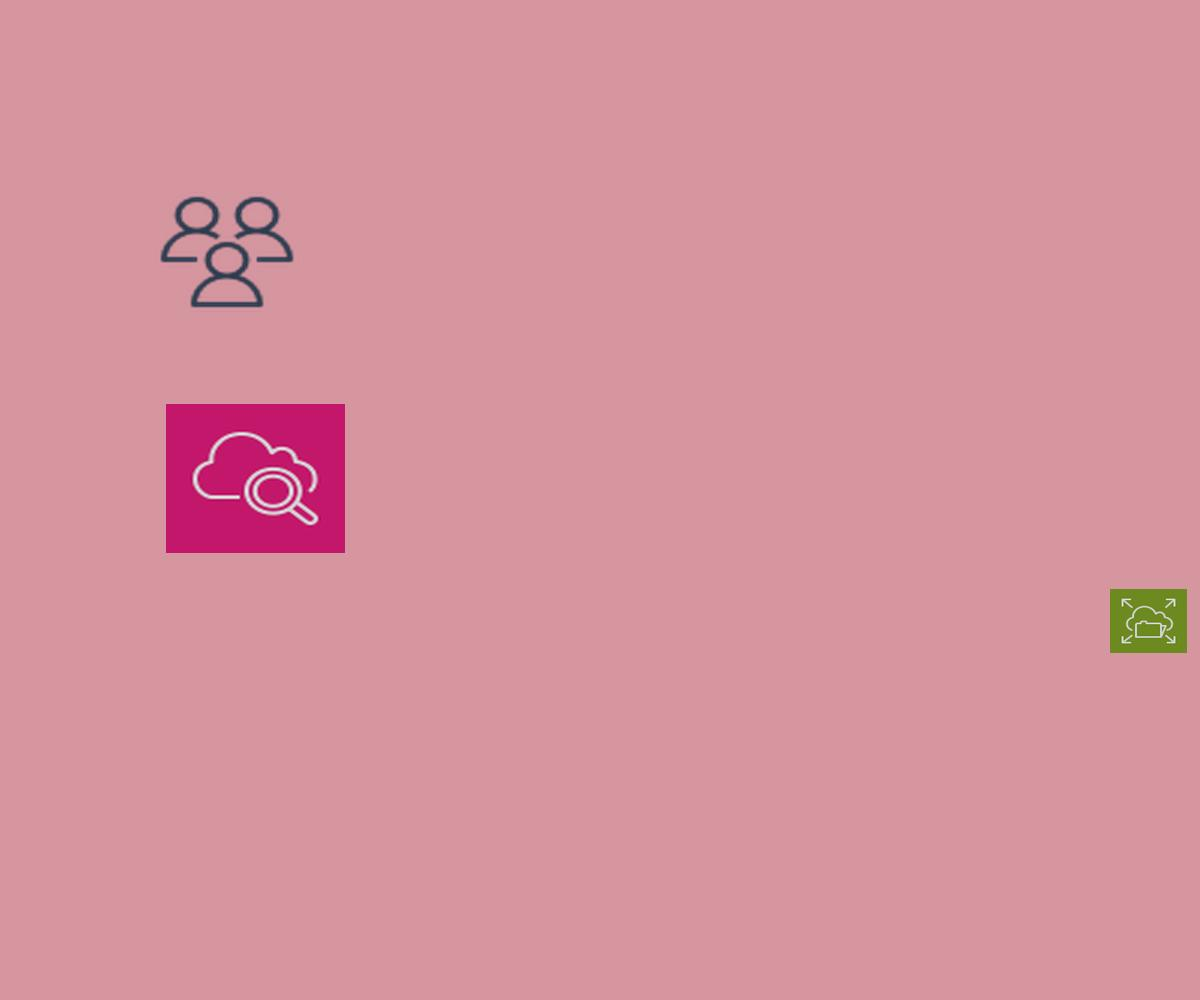AWS-CloudWatch: (166, 404, 345, 553)
AWS-EFS: (1110, 589, 1187, 653)
AWS-Res_Users: (155, 192, 299, 312)
